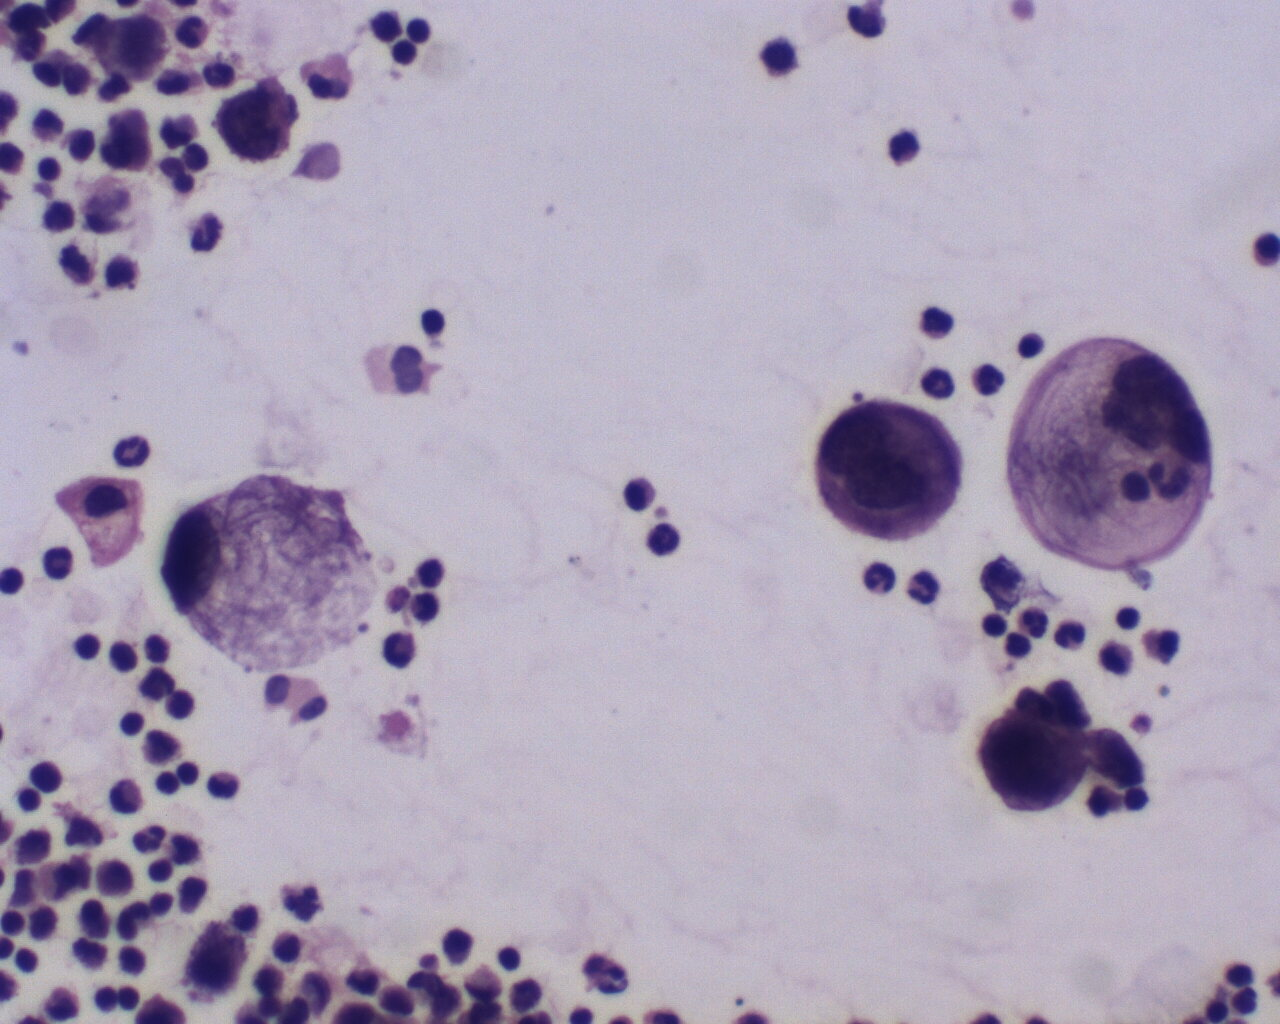ab: (812, 395, 973, 544), (979, 694, 1096, 814), (213, 76, 302, 171)
histo: (1010, 328, 1216, 573), (155, 472, 379, 670)
lymph: (411, 304, 461, 342), (116, 707, 149, 741), (70, 631, 104, 662), (34, 154, 70, 184), (405, 15, 437, 46), (11, 942, 41, 975), (497, 941, 526, 975), (1116, 601, 1144, 634), (146, 855, 176, 886), (982, 610, 1011, 639), (15, 785, 44, 814), (116, 982, 142, 1013)
neutro: (918, 360, 972, 408), (186, 207, 229, 255), (642, 517, 685, 562), (107, 428, 153, 471), (920, 301, 960, 345), (905, 565, 946, 606), (864, 555, 900, 601), (41, 542, 79, 584), (170, 14, 211, 52), (378, 630, 416, 671), (971, 360, 1008, 399), (886, 127, 923, 167), (129, 822, 169, 857), (1017, 605, 1052, 639), (207, 768, 243, 801), (1053, 618, 1086, 651)
